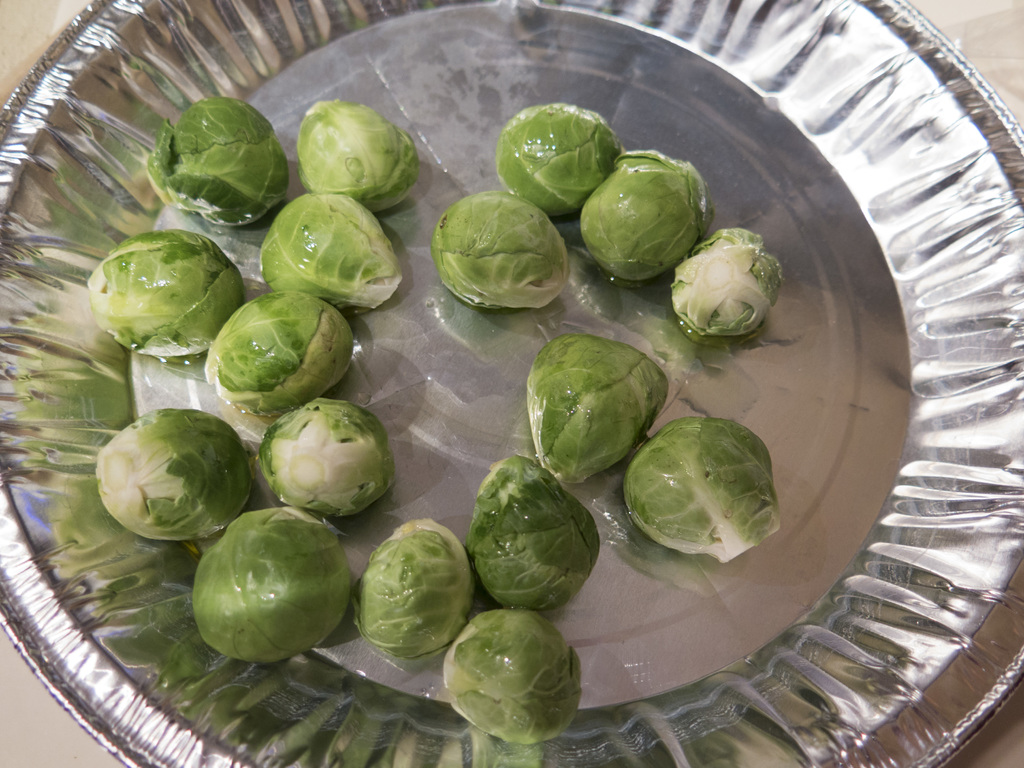Cabbage: (87, 94, 780, 745)
